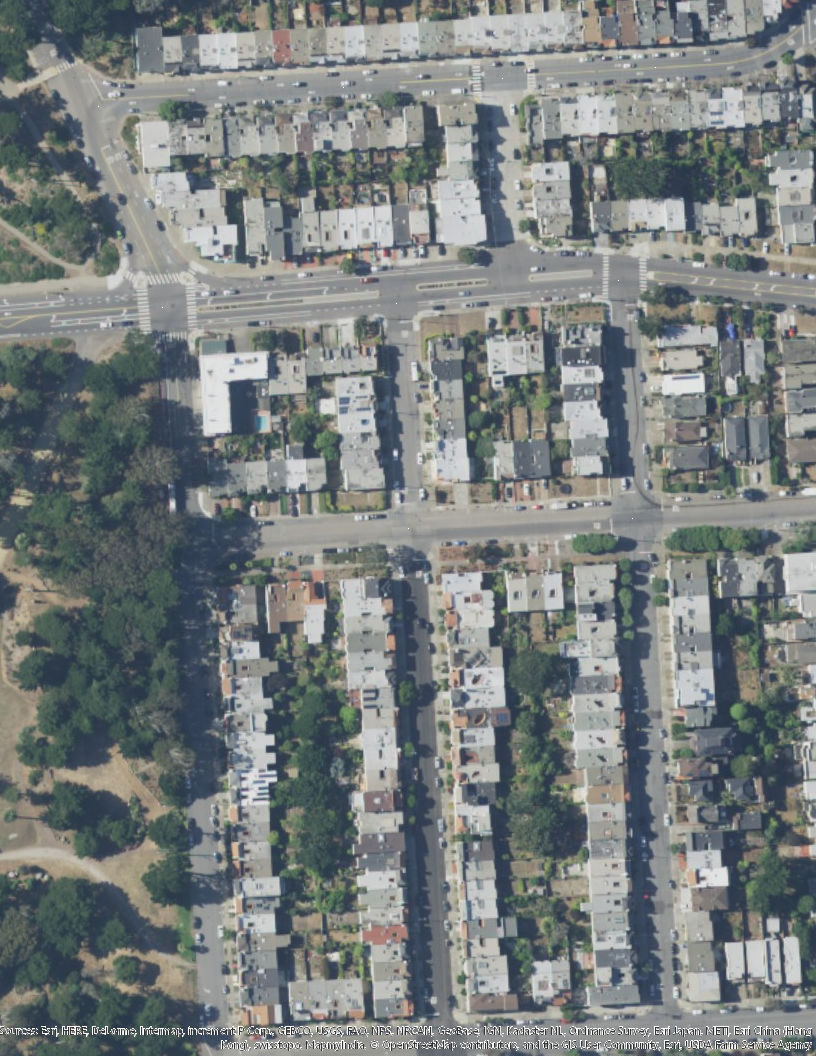zebracross: (136, 289, 153, 333), (186, 287, 199, 329), (599, 253, 611, 295), (467, 65, 484, 92), (147, 274, 182, 285), (637, 259, 649, 291), (525, 59, 537, 90), (155, 332, 187, 343), (124, 270, 136, 282)
